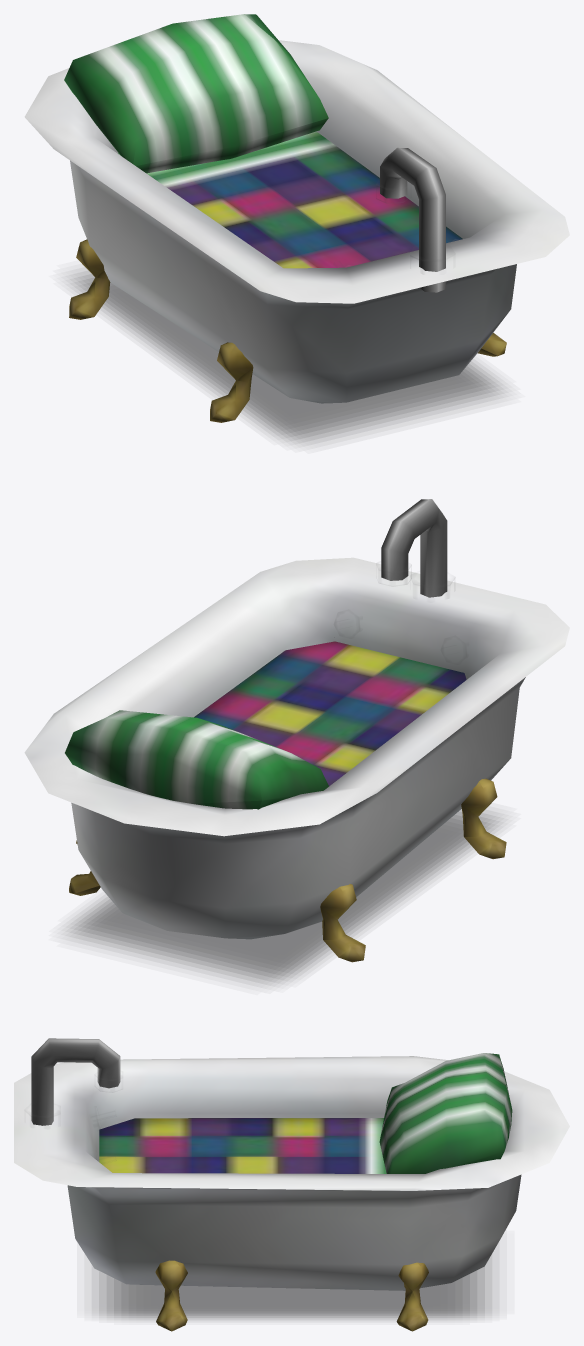
The model's file is bathtub_bed.glb.
3 views of the same model, one above another, from view 1: azimuth 30°, elevation 25°; view 2: azimuth 150°, elevation 25°; view 3: azimuth 270°, elevation 25° (orthographic). The views are drawn at different scales.
Parts seen in each view (by area): view 1: polySurface1, pillow, polySurface2, pPlane1, faucetCenterMiddle, leg5, leg2; view 2: polySurface1, polySurface2, pillow, pPlane1, faucetCenterMiddle, leg5, leg2; view 3: polySurface1, polySurface2, pPlane1, pillow, faucetCenterMiddle, leg7, leg6.
Boxes of the visible parts, left/top/right/bottom form: polySurface1: left=24, top=40, right=569, bottom=403; pillow: left=64, top=14, right=328, bottom=173; polySurface2: left=118, top=131, right=462, bottom=268; pPlane1: left=70, top=270, right=503, bottom=444; faucetCenterMiddle: left=380, top=147, right=445, bottom=292; leg5: left=210, top=342, right=253, bottom=422; leg2: left=69, top=239, right=110, bottom=319; polySurface1: left=24, top=557, right=569, bottom=939; polySurface2: left=194, top=641, right=466, bottom=786; pillow: left=65, top=710, right=328, bottom=809; pPlane1: left=66, top=809, right=503, bottom=985; faucetCenterMiddle: left=381, top=499, right=447, bottom=597; leg5: left=461, top=778, right=506, bottom=859; leg2: left=320, top=884, right=365, bottom=962; polySurface1: left=14, top=1056, right=569, bottom=1290; polySurface2: left=99, top=1118, right=386, bottom=1173; pPlane1: left=92, top=1254, right=492, bottom=1319; pillow: left=379, top=1053, right=512, bottom=1173; faucetCenterMiddle: left=31, top=1038, right=120, bottom=1125; leg7: left=155, top=1260, right=187, bottom=1331; leg6: left=396, top=1262, right=428, bottom=1331.
Size of the model in its own units: 4 by 3.25 by 6.97.
Materials: 5 (5 with a texture image).
